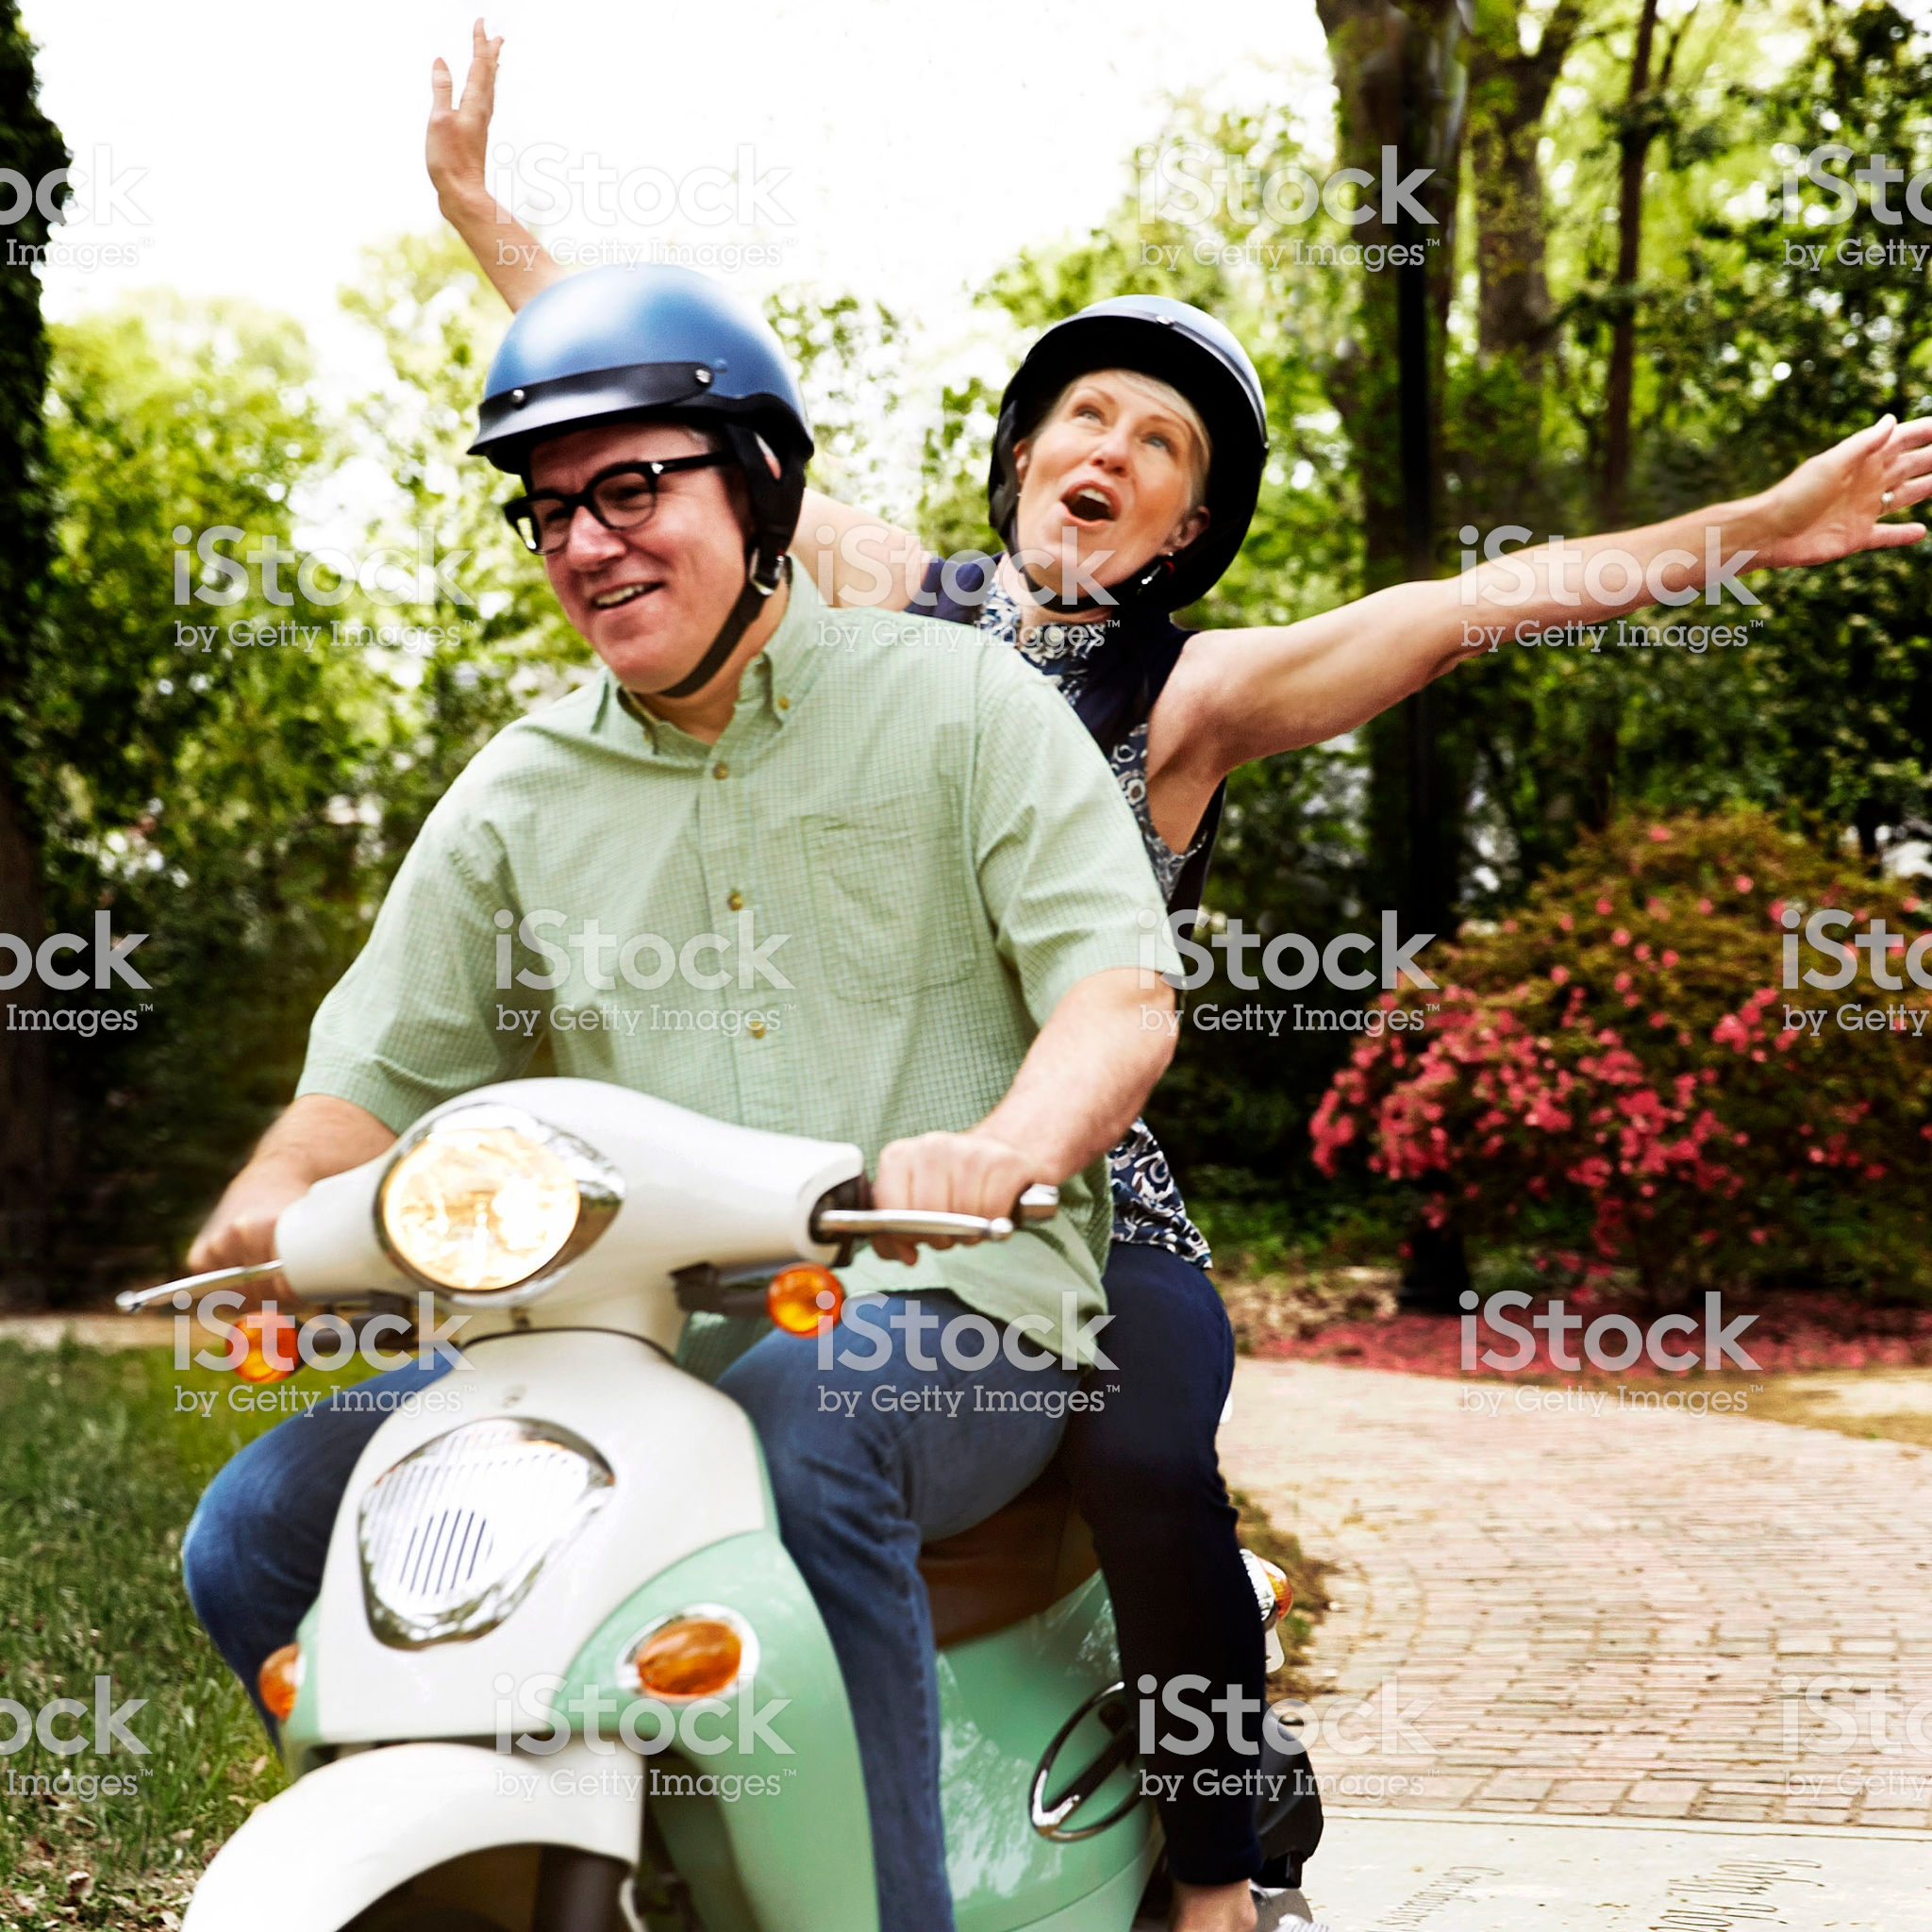helmet: (449, 257, 847, 474)
